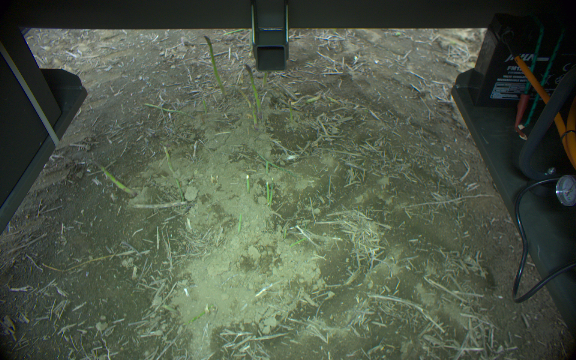aspa: (87, 158, 134, 198), (204, 34, 225, 98), (162, 144, 184, 202), (142, 101, 196, 120), (244, 63, 262, 112), (285, 98, 296, 127), (249, 103, 257, 128), (262, 71, 271, 91)
